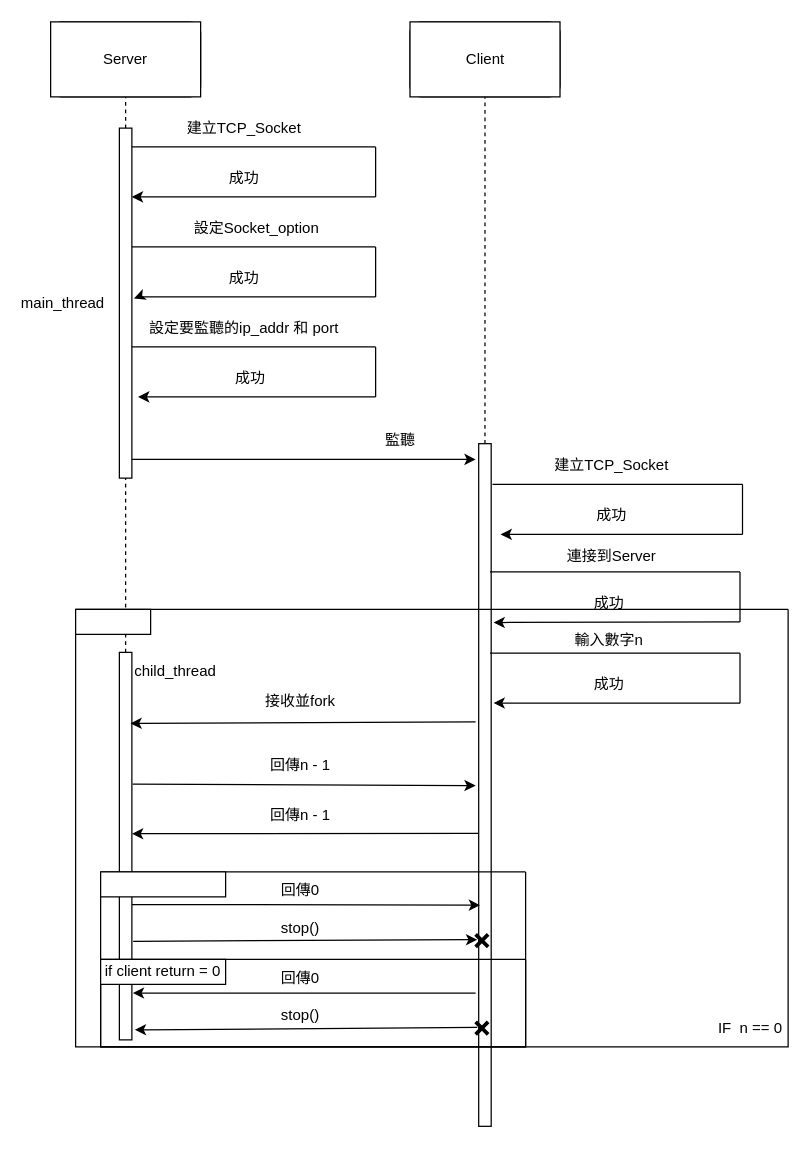
Some shapes in this 810 by 1150 pixel diagram are drawn without their labels. The centre of each missing label's shape, as x and y in pixels:
"if server return = 0" belongs at (162,884).
"Loop" belongs at (112,621).
